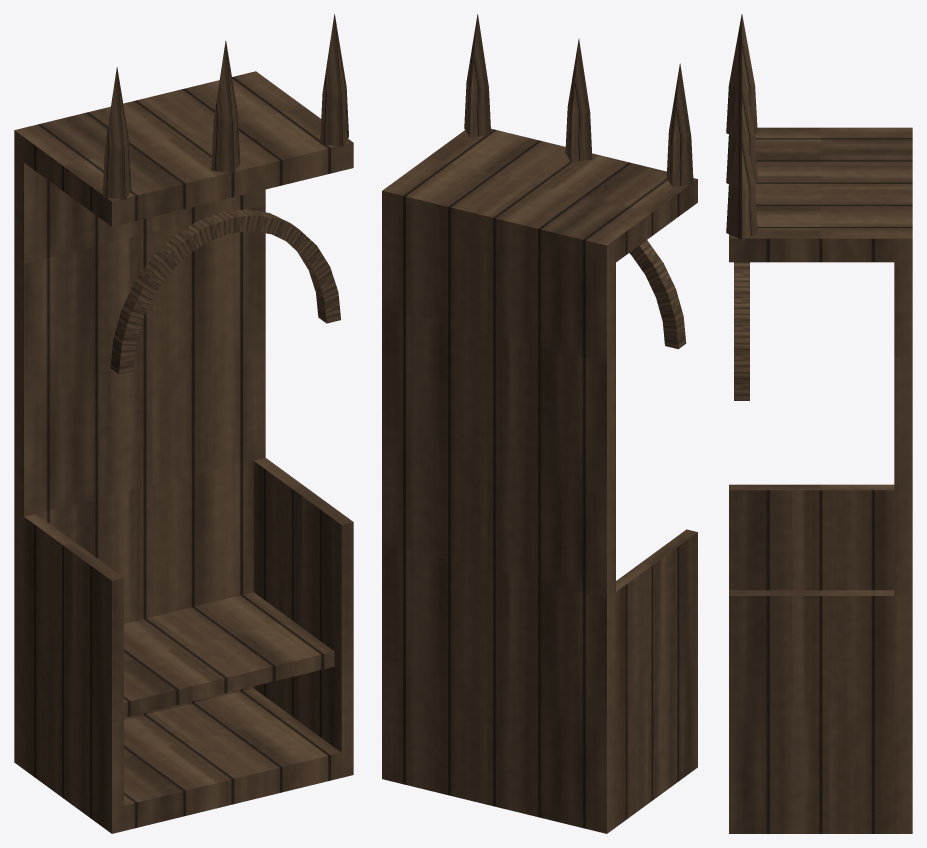
File: Stalls_Gothic_1.gltf
3 views of the same model, side by side, from view 1: azimuth 30°, elevation 25°; view 2: azimuth 150°, elevation 25°; view 3: azimuth 270°, elevation 25° (orthographic). The views are drawn at different scales.
Parts seen in each view (by area): view 1: Stalls_Gothic_1; view 2: Stalls_Gothic_1; view 3: Stalls_Gothic_1.
Boxes of the visible parts, x1=… form: Stalls_Gothic_1: x1=14, y1=14, x2=353, y2=833; Stalls_Gothic_1: x1=382, y1=14, x2=697, y2=833; Stalls_Gothic_1: x1=726, y1=14, x2=912, y2=833.
Size of the model in its own units: 1.02 by 3 by 0.71.
1 material, 1 textured.
